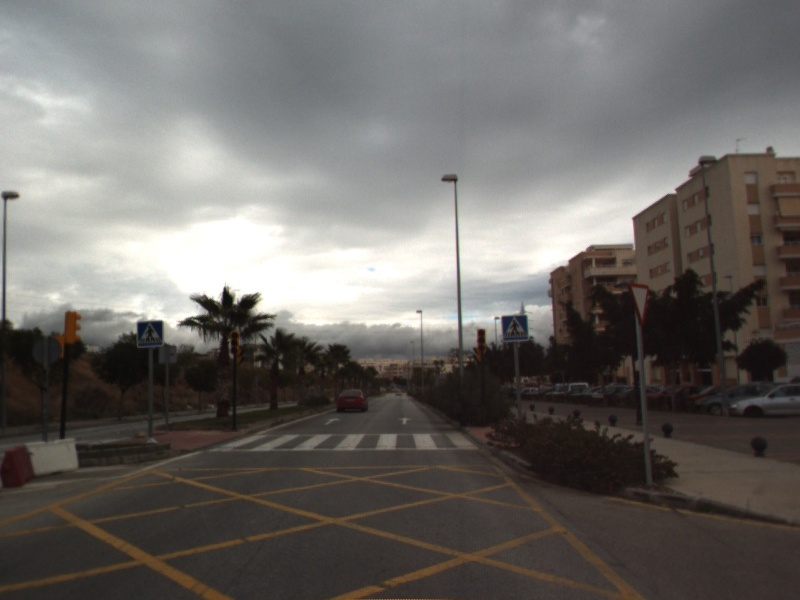STRAIGHT: (322, 415, 343, 427), (397, 415, 413, 426)
